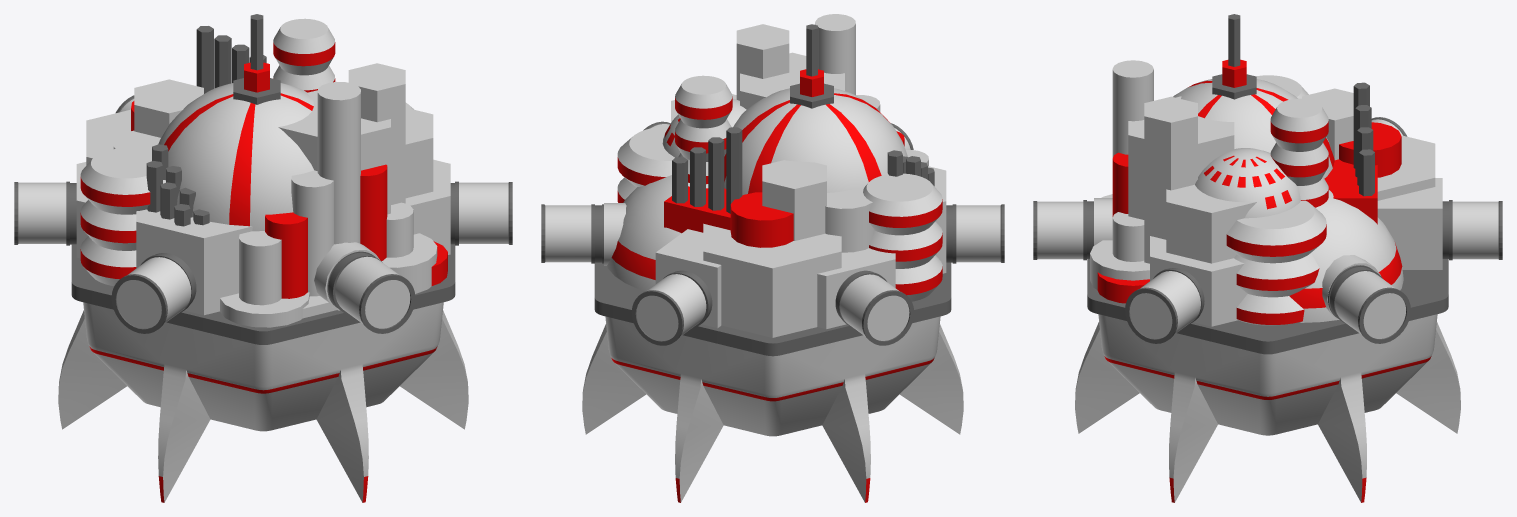
Rendered from B_Usine.fbx.
3 renders of one model, left to right at view 1: azimuth 30°, elevation 25°; view 2: azimuth 150°, elevation 25°; view 3: azimuth 270°, elevation 25°, orthographic. The views are drawn at different scales.
Visible parts, largest first — view 1: Base003, Connexion (×4); view 2: Base003, Connexion (×4); view 3: Base003, Connexion (×4).
Boxes of the visible parts, box(x1,y1,x2,y2) form: Base003: box(58, 14, 468, 502); Connexion (×4): box(14, 182, 512, 333); Base003: box(582, 14, 963, 502); Connexion (×4): box(541, 204, 1004, 345); Base003: box(1075, 14, 1460, 502); Connexion (×4): box(1033, 201, 1502, 343).
Size of the model in its own units: 725 by 743 by 780.
